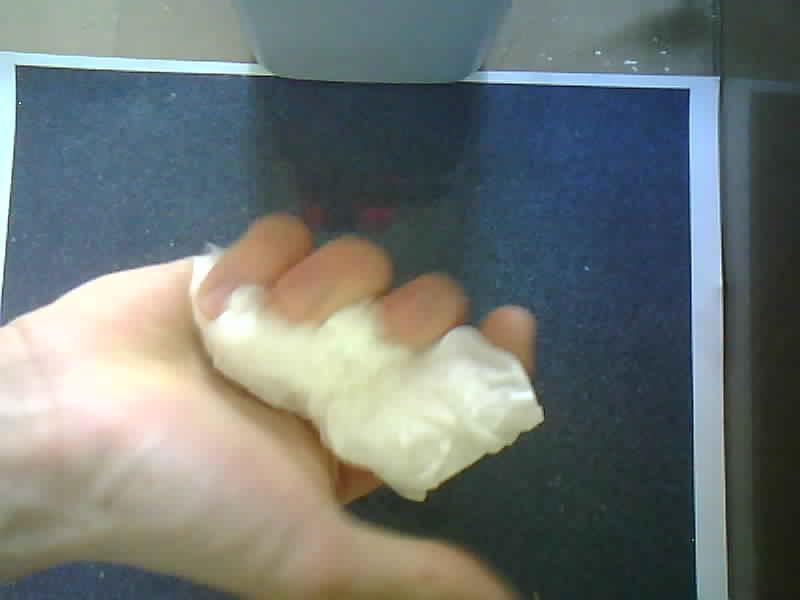paper: (189, 231, 544, 500)
